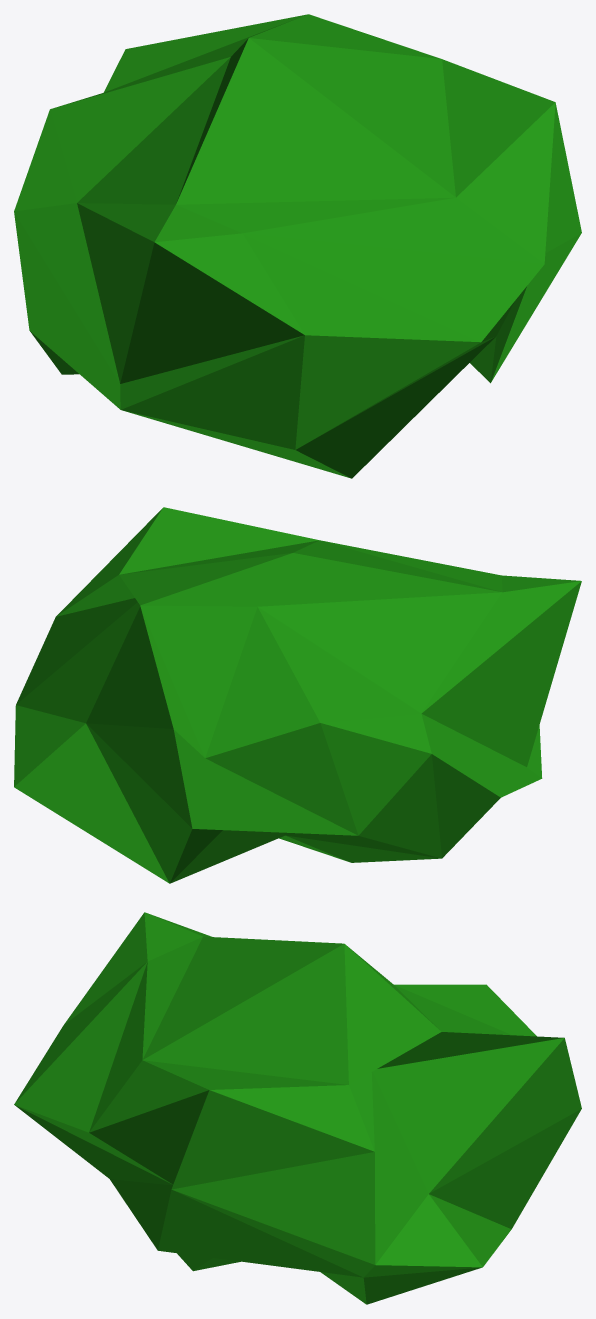
Rendered from Bush1.fbx.
3 renders of one model, top to bottom at view 1: azimuth 30°, elevation 25°; view 2: azimuth 150°, elevation 25°; view 3: azimuth 270°, elevation 25°, orthographic. The views are drawn at different scales.
Parts seen in each view (by area): view 1: Bush_1; view 2: Bush_1; view 3: Bush_1.
Part boxes in pixels (bbox=[...]): Bush_1: bbox=[14, 14, 581, 478]; Bush_1: bbox=[14, 507, 581, 883]; Bush_1: bbox=[14, 912, 581, 1304].
Size of the model in its own units: 80.76 by 55.55 by 88.85.
